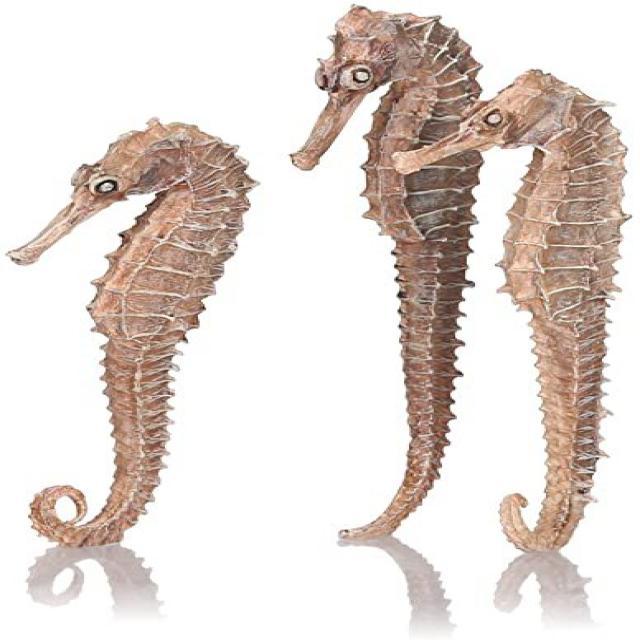seahorse: (391, 71, 627, 550), (10, 120, 252, 546), (290, 6, 483, 540)
